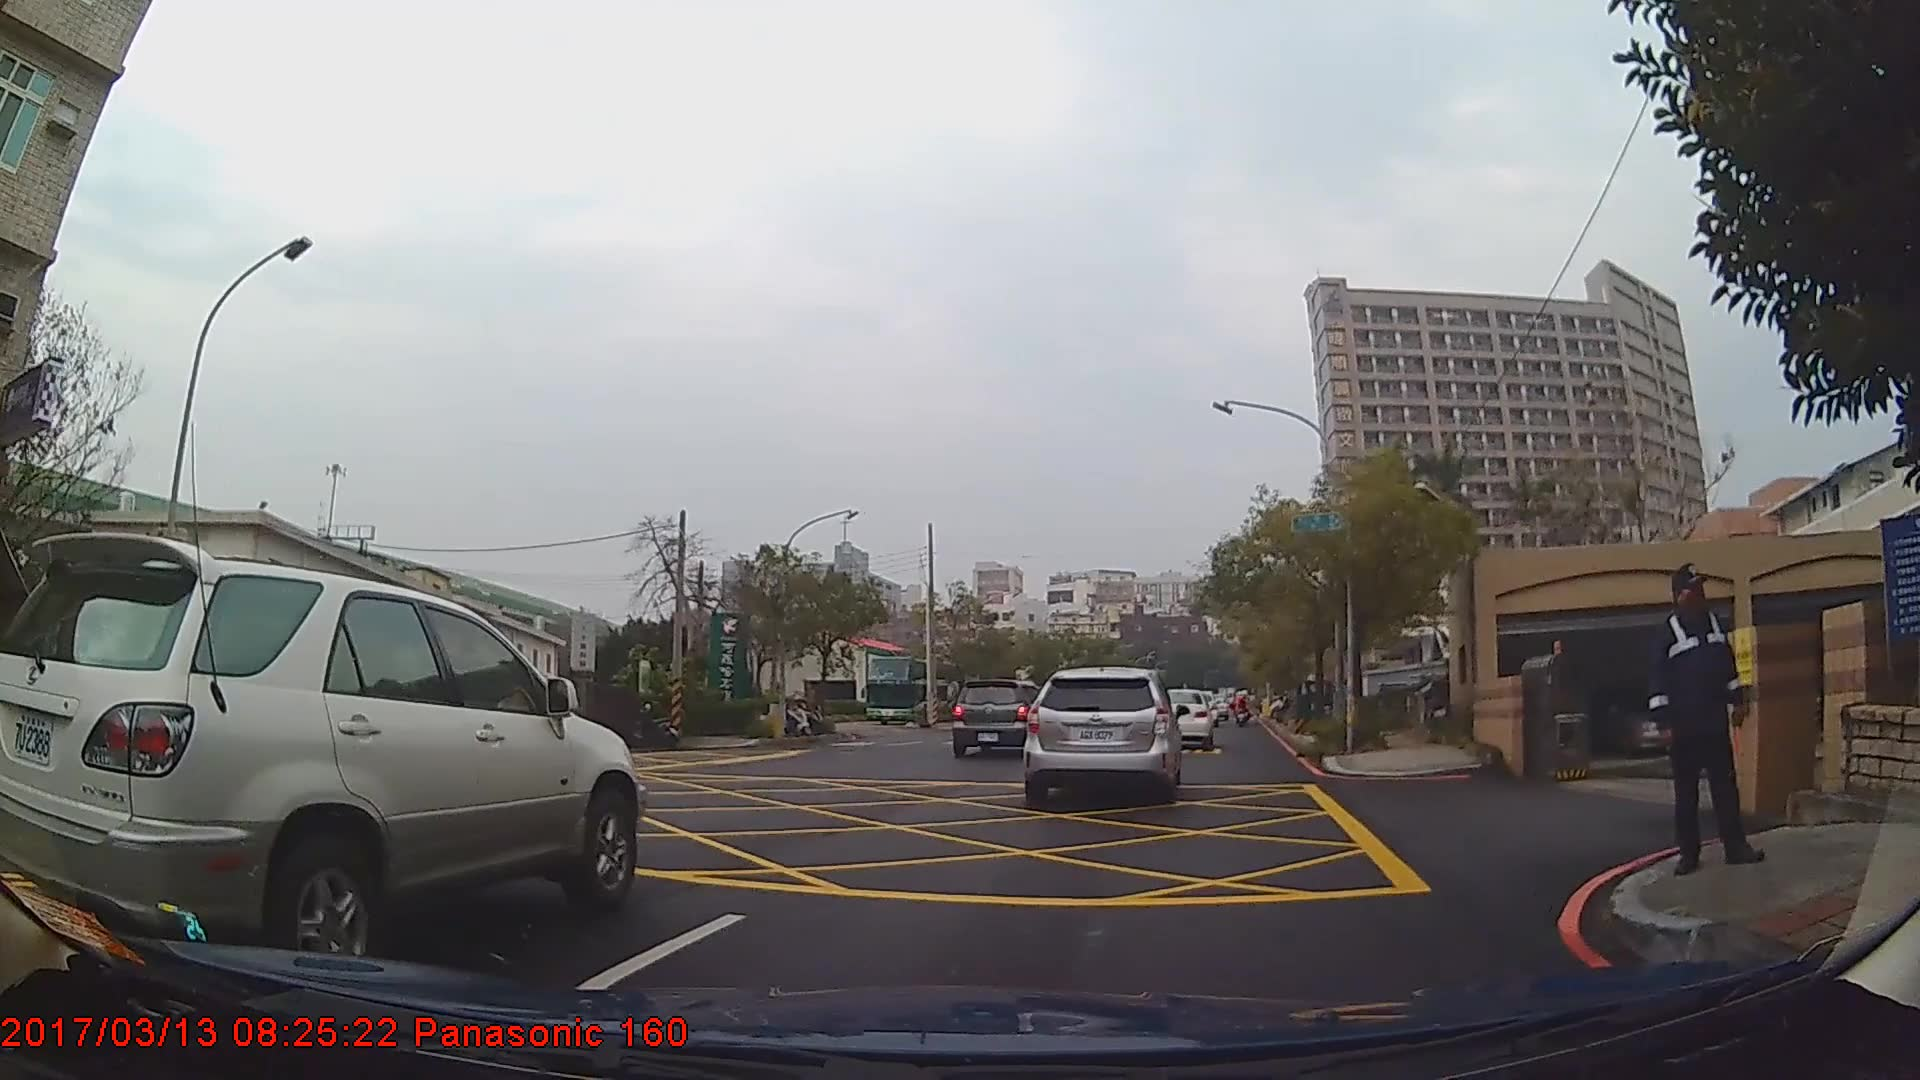pedestrian: (1648, 563, 1769, 876)
vehicle: (0, 532, 645, 976), (1021, 664, 1182, 808), (949, 680, 1058, 754), (862, 656, 962, 728), (1150, 689, 1215, 752)
